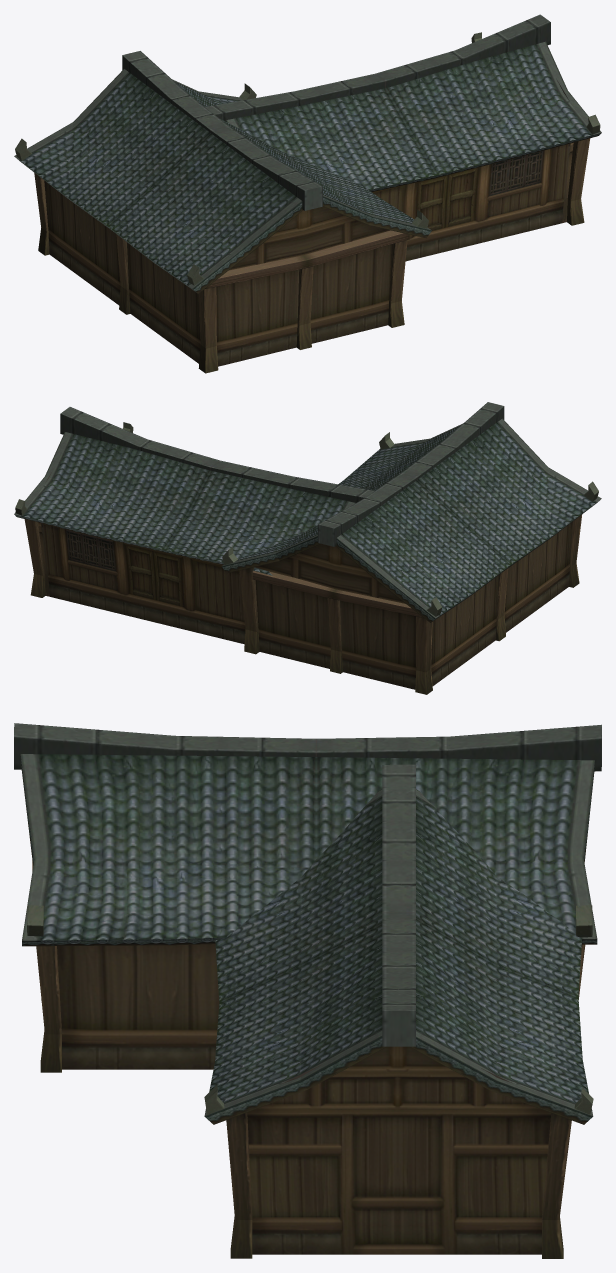
Rendered from ZZL_building_03.FBX.
3 renders of one model, top to bottom at view 1: azimuth 30°, elevation 25°; view 2: azimuth 150°, elevation 25°; view 3: azimuth 270°, elevation 25°, orthographic. The views are drawn at different scales.
Visible parts, largest first — view 1: ZZL_building_03; view 2: ZZL_building_03; view 3: ZZL_building_03.
Boxes of the visible parts, left/top/right/bottom form: ZZL_building_03: left=14, top=14, right=601, bottom=373; ZZL_building_03: left=14, top=402, right=601, bottom=694; ZZL_building_03: left=14, top=723, right=601, bottom=1258.
Bounding box in the file's own units: 1770 × 598 × 1201.
1 material, 1 textured.
